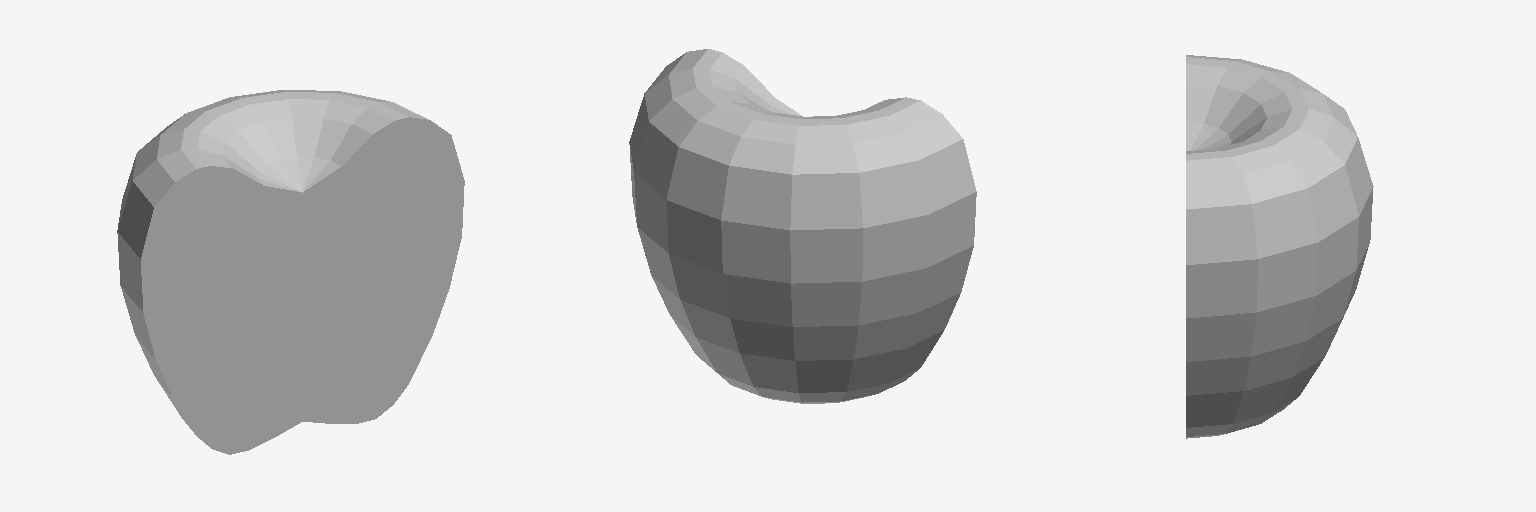
File: Manzana-1_2.obj
3 views of the same model, side by side, from view 1: azimuth 30°, elevation 25°; view 2: azimuth 150°, elevation 25°; view 3: azimuth 270°, elevation 25° (orthographic).
Parts seen in each view (by area): view 1: Manzana-1_2_Sphere.004; view 2: Manzana-1_2_Sphere.004; view 3: Manzana-1_2_Sphere.004.
Boxes of the visible parts, box(x1,y1,x2,y2) form: Manzana-1_2_Sphere.004: box(117, 90, 464, 454); Manzana-1_2_Sphere.004: box(629, 49, 976, 403); Manzana-1_2_Sphere.004: box(1186, 55, 1373, 438).
Bounding box in the file's own units: 3.67 × 3.18 × 1.83.